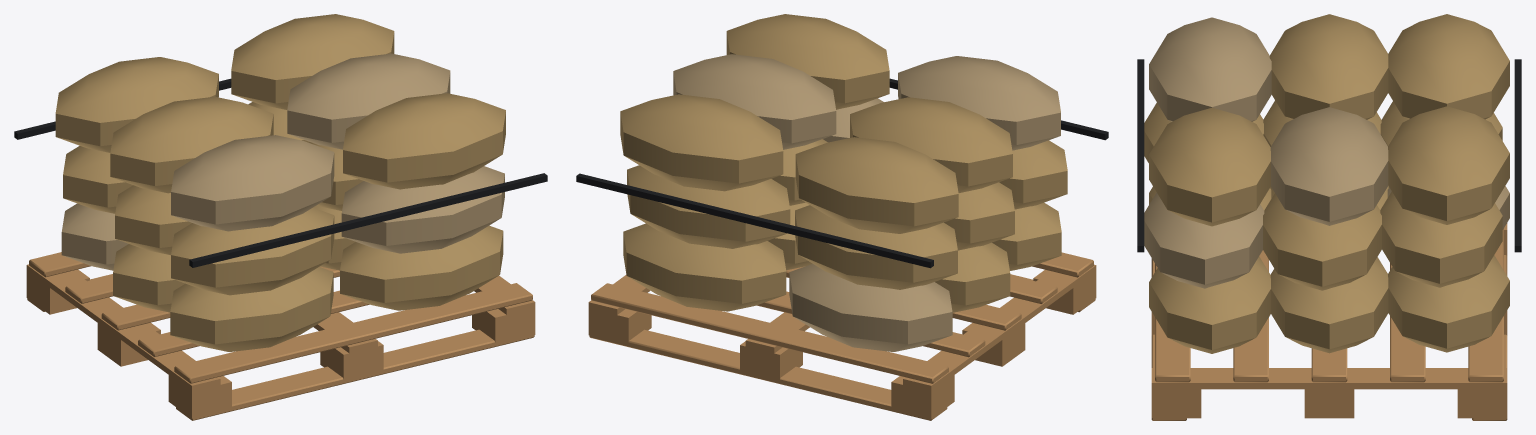
File: pallet_sacks_stacked.glb
3 renders of one model, left to right at view 1: azimuth 30°, elevation 25°; view 2: azimuth 150°, elevation 25°; view 3: azimuth 270°, elevation 25°, orthographic. The views are drawn at different scales.
Parts seen in each view (by area): view 1: pallet_sacks_stacked; view 2: pallet_sacks_stacked; view 3: pallet_sacks_stacked.
Boxes of the visible parts, bbox=[...] form: pallet_sacks_stacked: bbox=[14, 14, 547, 420]; pallet_sacks_stacked: bbox=[576, 14, 1108, 420]; pallet_sacks_stacked: bbox=[1137, 14, 1521, 420].
Size of the model in its own units: 1.24 by 0.78 by 1.08.
